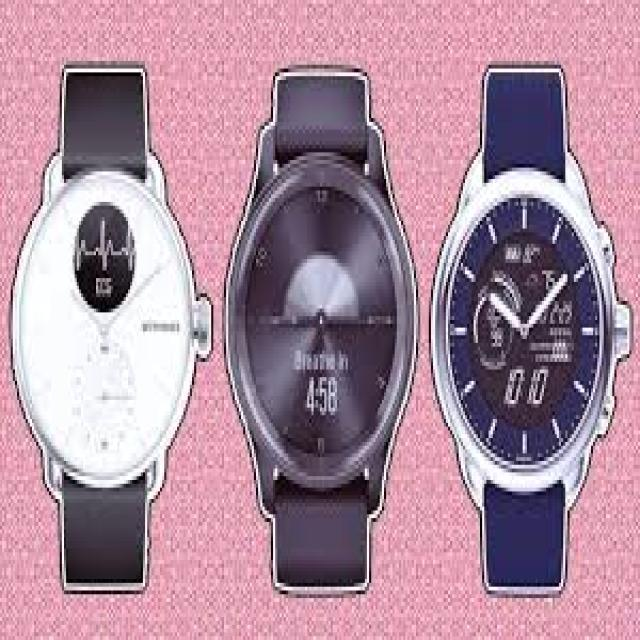objects: (431, 65, 631, 592), (11, 65, 211, 587), (224, 72, 416, 587)
